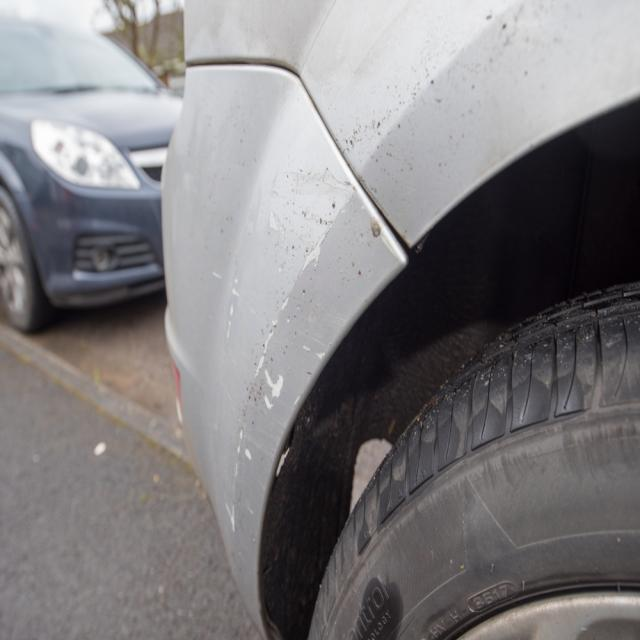scratch: (219, 158, 353, 530)
